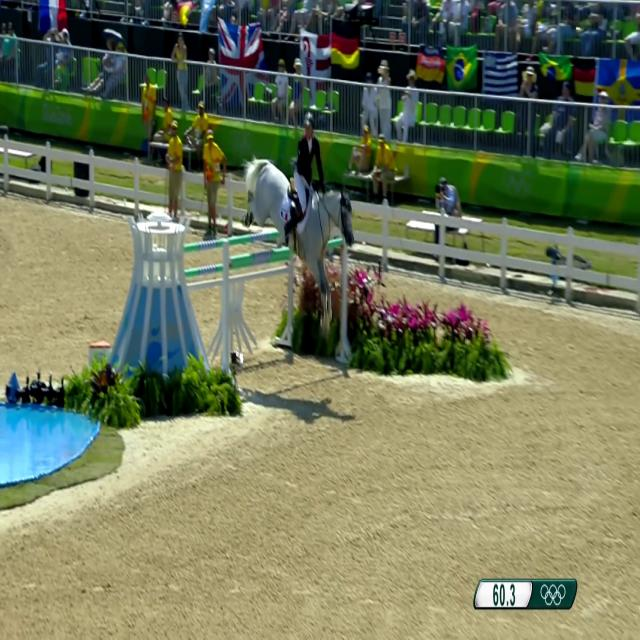Horse Jumping: (228, 90, 367, 342)
